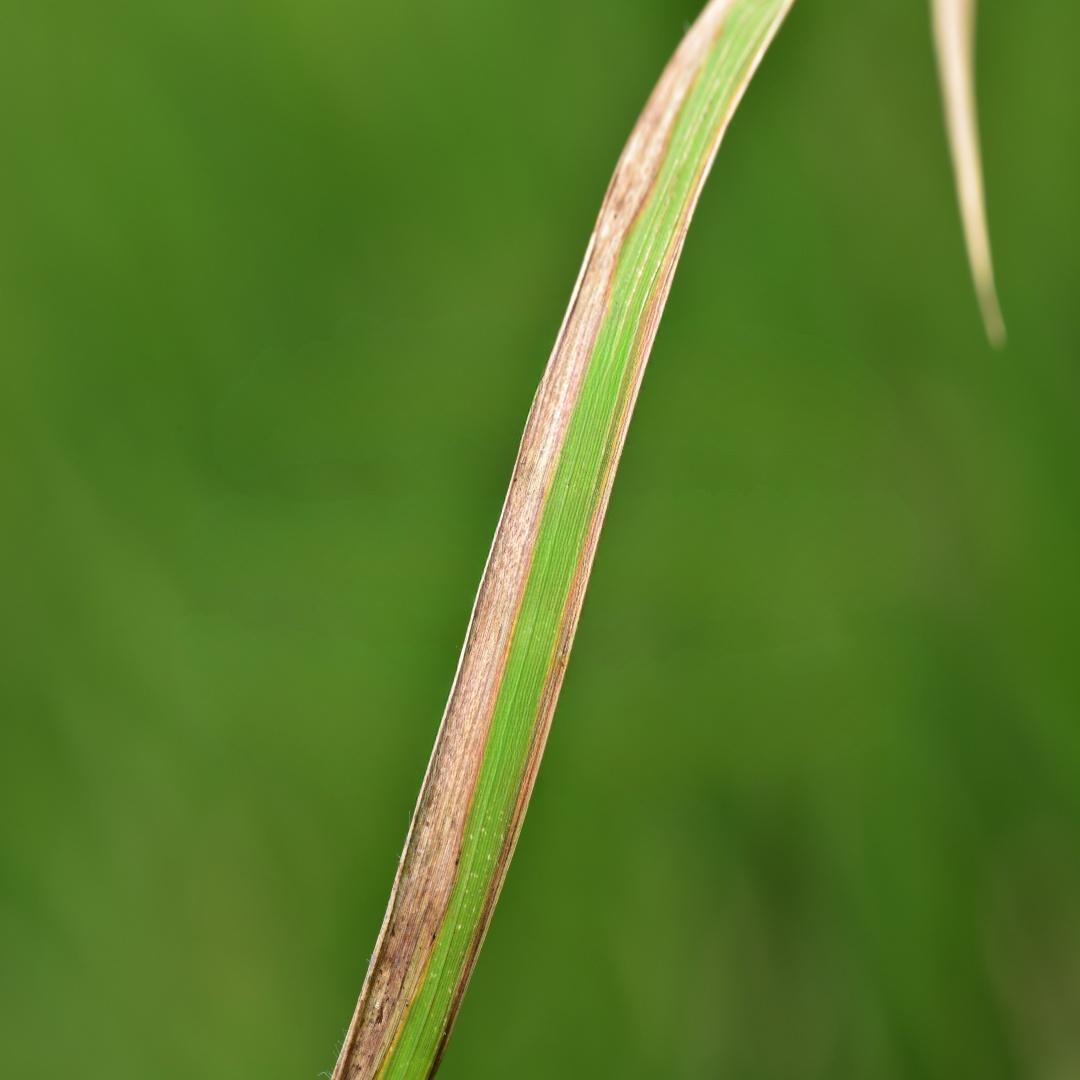BLB: (331, 0, 734, 1079), (425, 1, 793, 1079)
